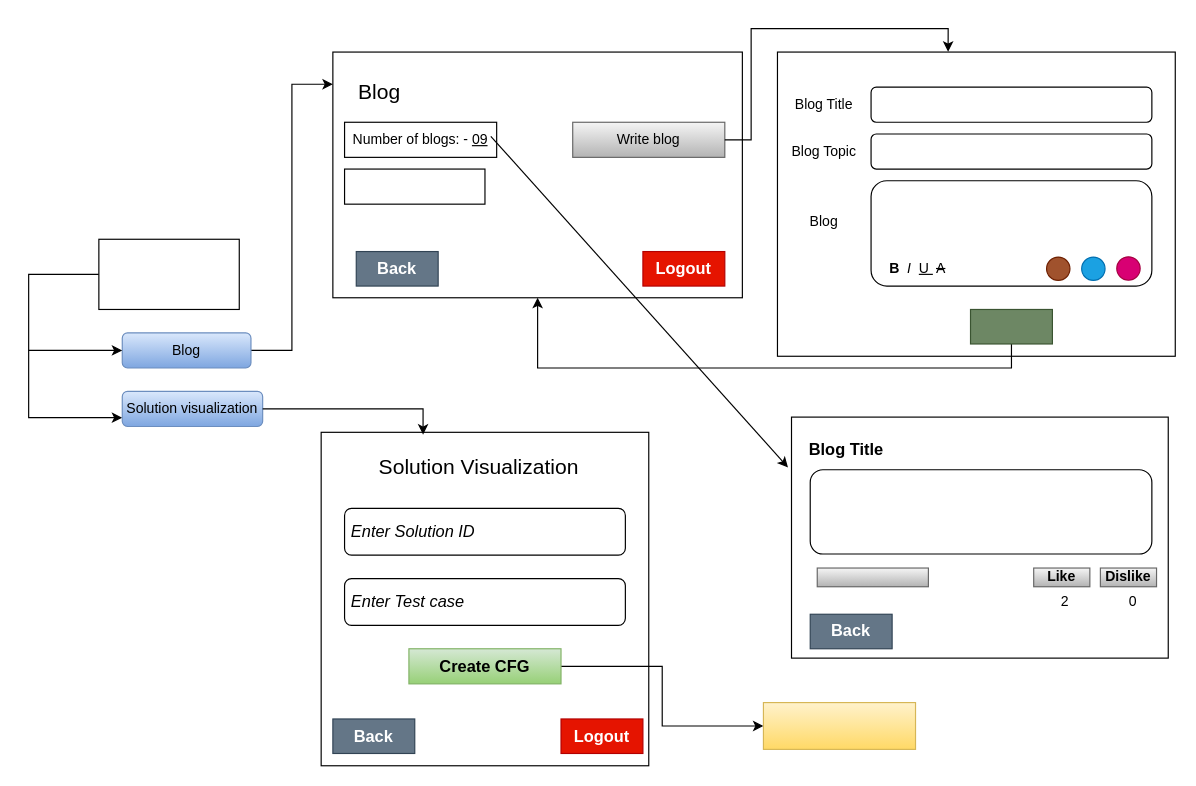
The diagram is 1196 pixels wide and 786 high, and some of its shapes have lost their labels. Here are the shapes that lost their labels. From the top down, the box of each, then its label:
(343, 168, 485, 204): Your blogs: - 02
(98, 238, 239, 309): Knowledge Nexus
(969, 308, 1052, 344): Post
(809, 469, 1152, 554): Blog//
(816, 567, 928, 587): Add Comment
(762, 701, 916, 749): CFG
